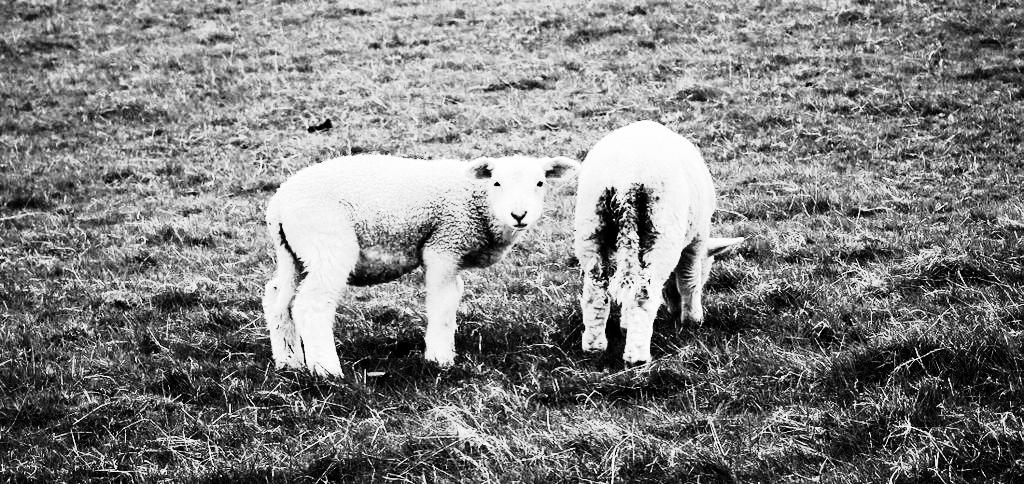Sheep: (258, 159, 584, 373), (570, 115, 750, 376)
